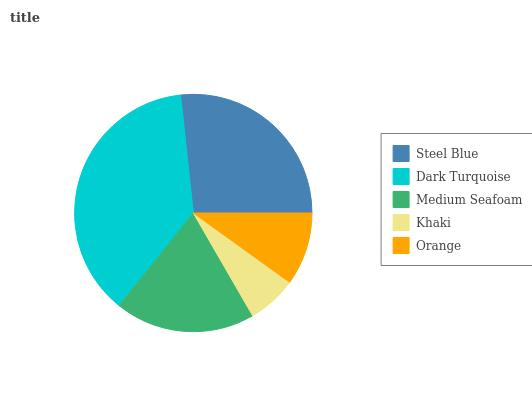legend: (381, 133, 532, 275)
sector: (72, 94, 198, 305), (118, 213, 252, 333), (180, 93, 313, 213), (193, 214, 289, 316), (194, 212, 313, 282)
